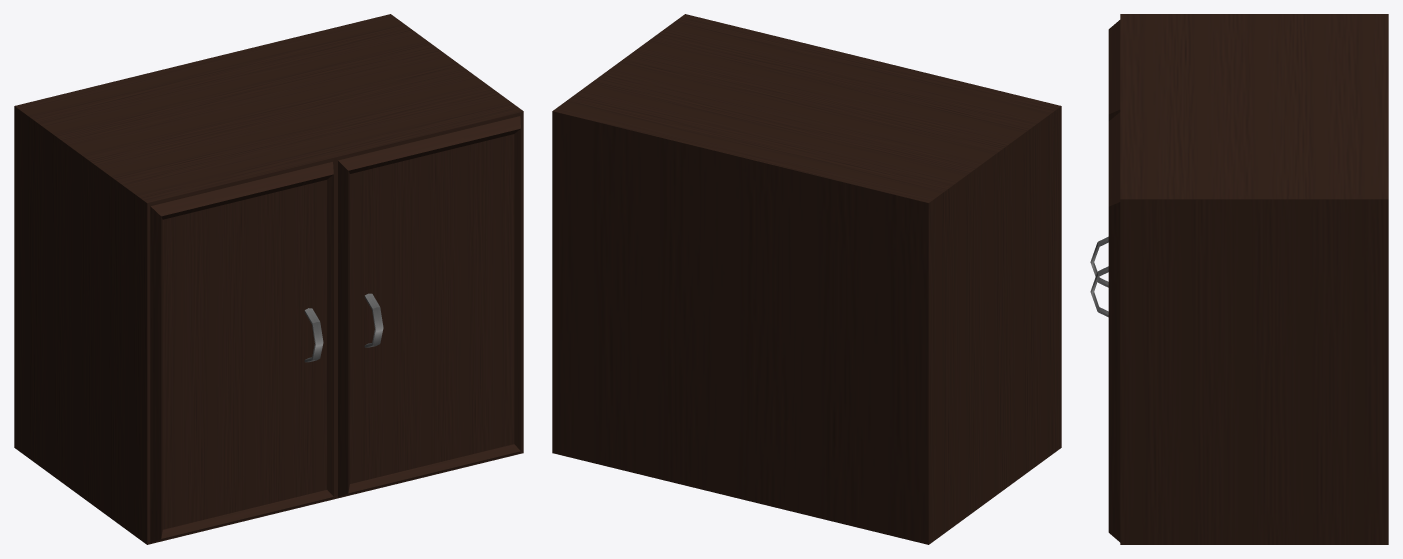
The model's file is Open_Cabinet_B_3.FBX.
3 renders of one model, left to right at view 1: azimuth 30°, elevation 25°; view 2: azimuth 150°, elevation 25°; view 3: azimuth 270°, elevation 25°, orthographic.
Parts seen in each view (by area): view 1: Cabinet_Open_A, Door001, Door; view 2: Cabinet_Open_A; view 3: Cabinet_Open_A, Door, Door001.
Boxes of the visible parts, x1,y1,x2,y2 form: Cabinet_Open_A: [14, 14, 523, 544]; Door001: [150, 162, 333, 543]; Door: [338, 116, 520, 497]; Cabinet_Open_A: [552, 14, 1061, 544]; Cabinet_Open_A: [1120, 14, 1388, 544]; Door: [1090, 112, 1120, 542]; Door001: [1090, 20, 1120, 287].
Bounding box in the file's own units: 127 × 110 × 86.01.
